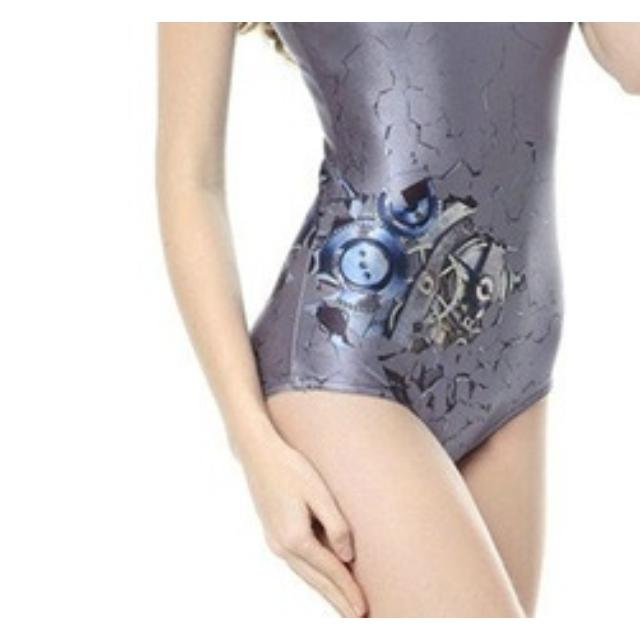polyester: (240, 22, 578, 404)
